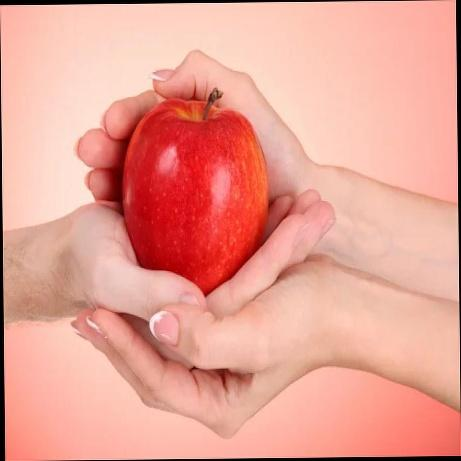red apple: (122, 97, 274, 298)
